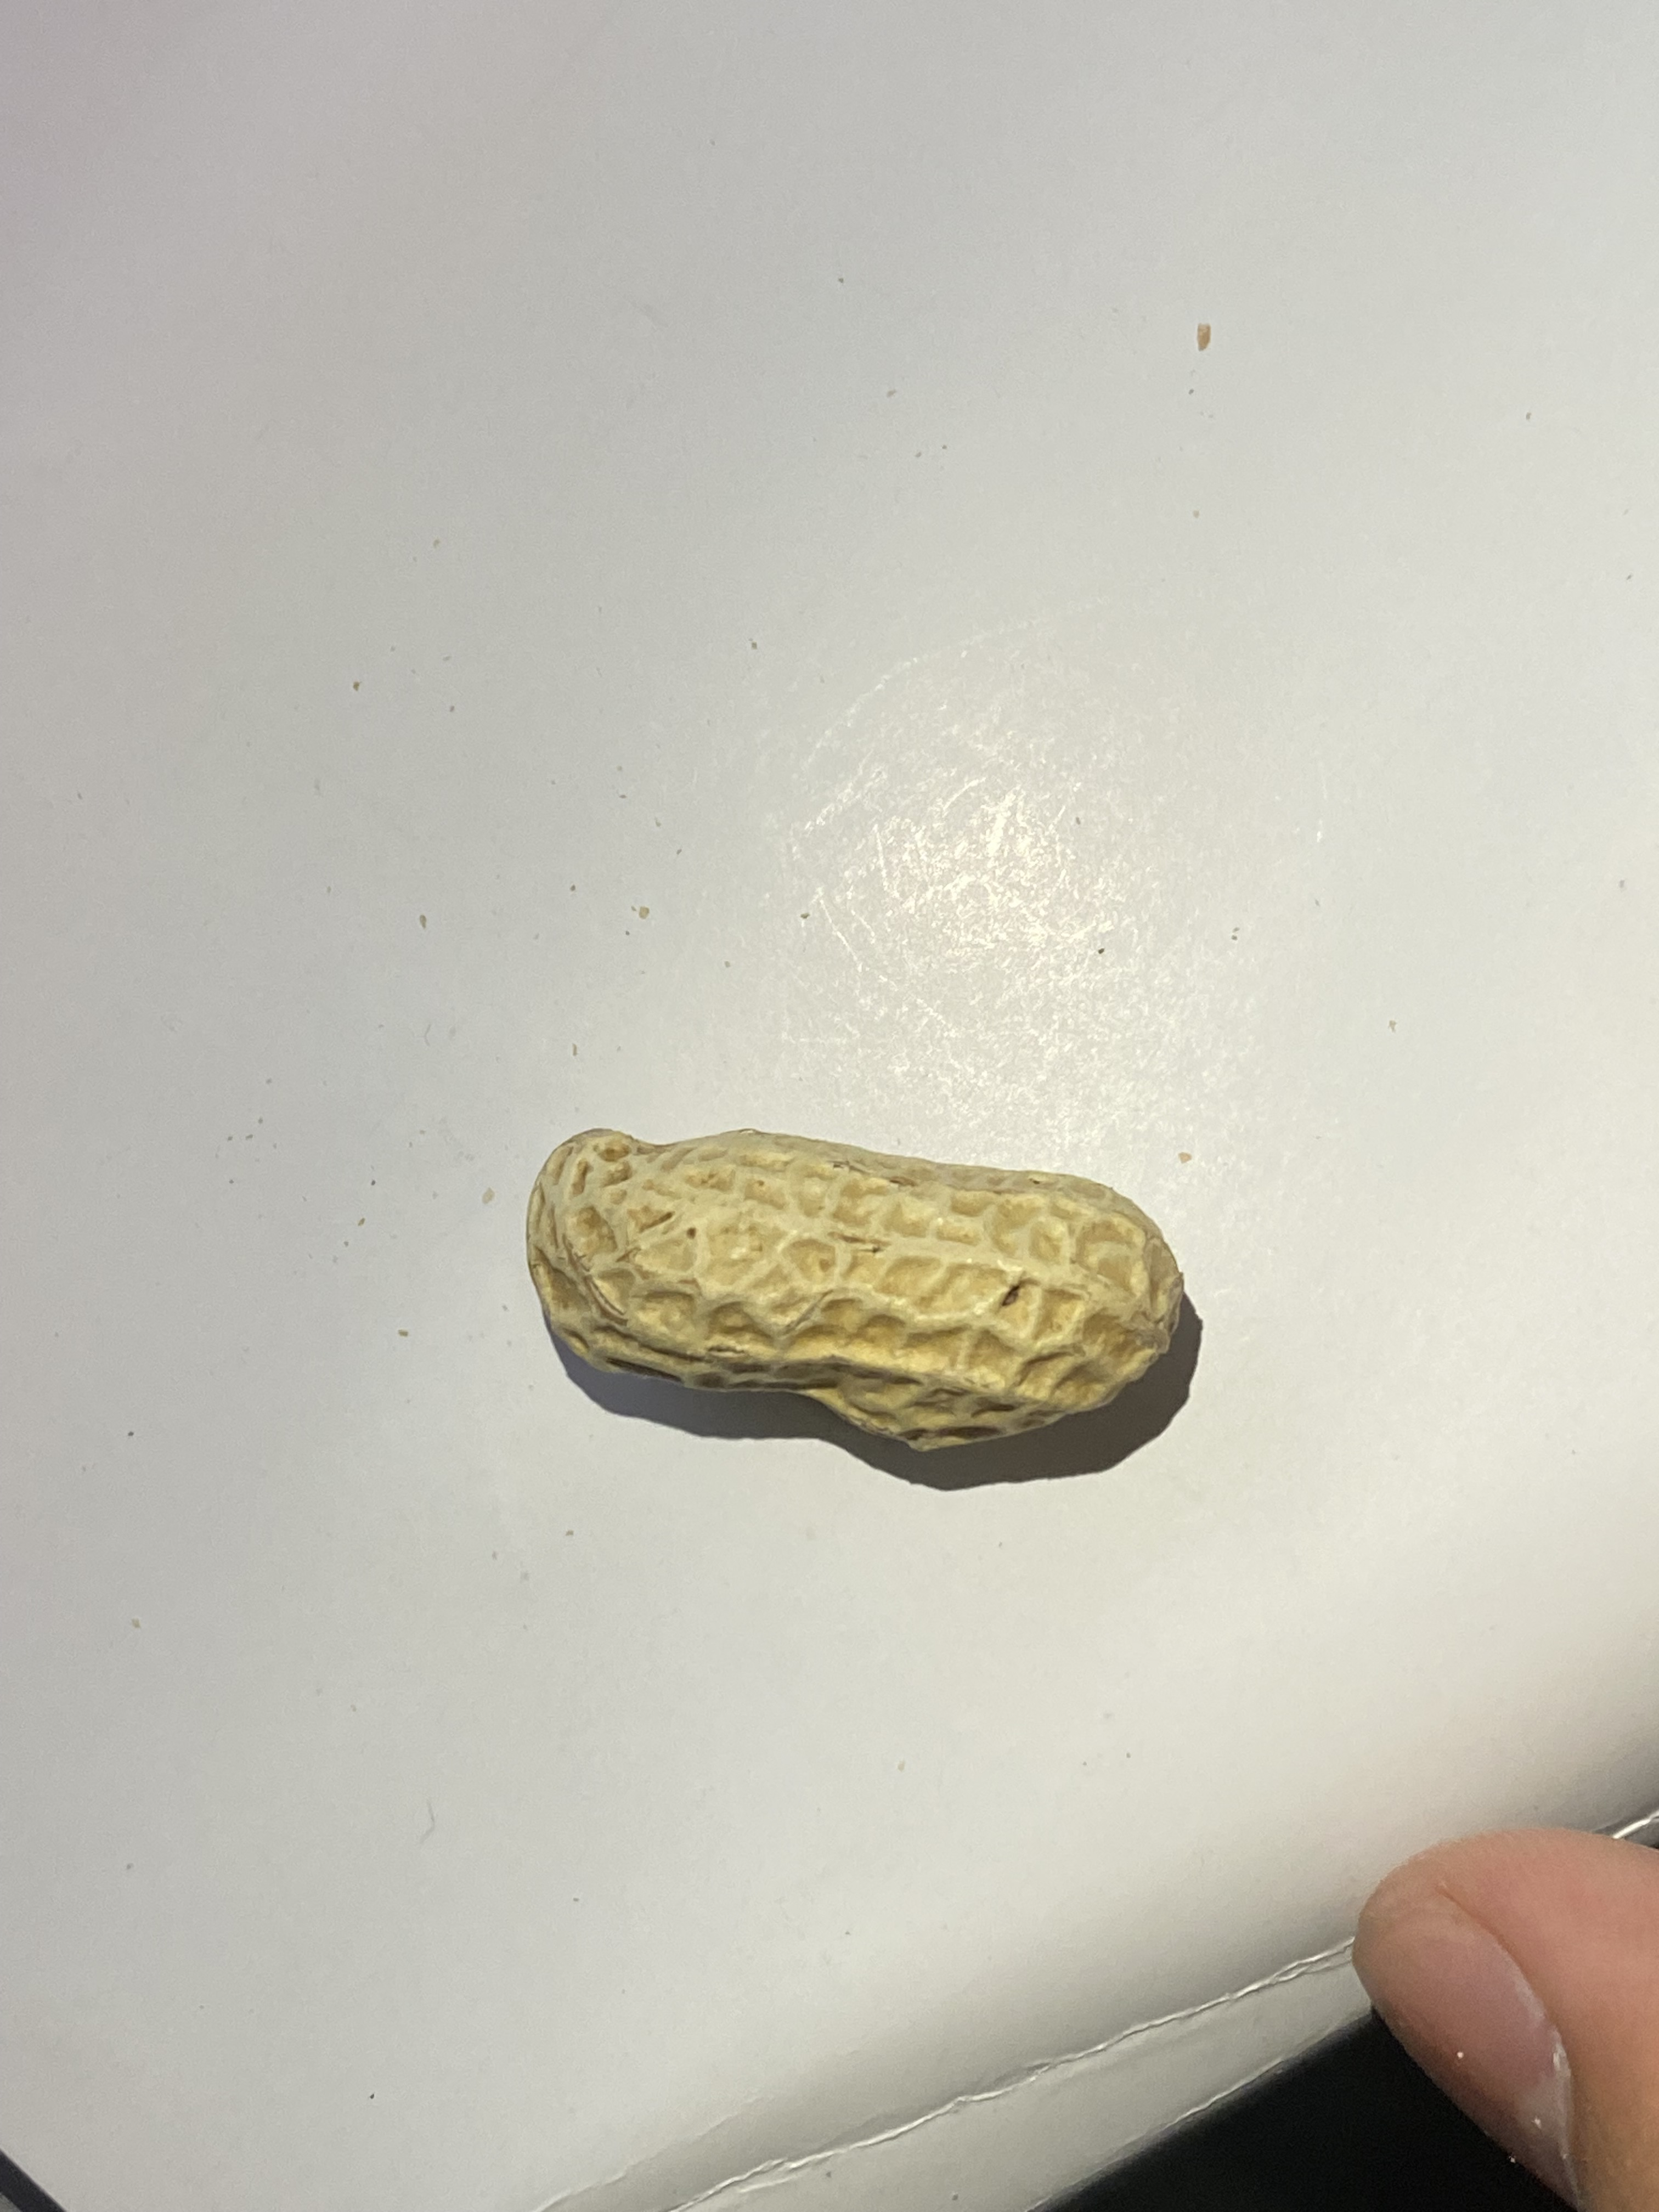kacang2: (516, 1106, 1218, 1456)
